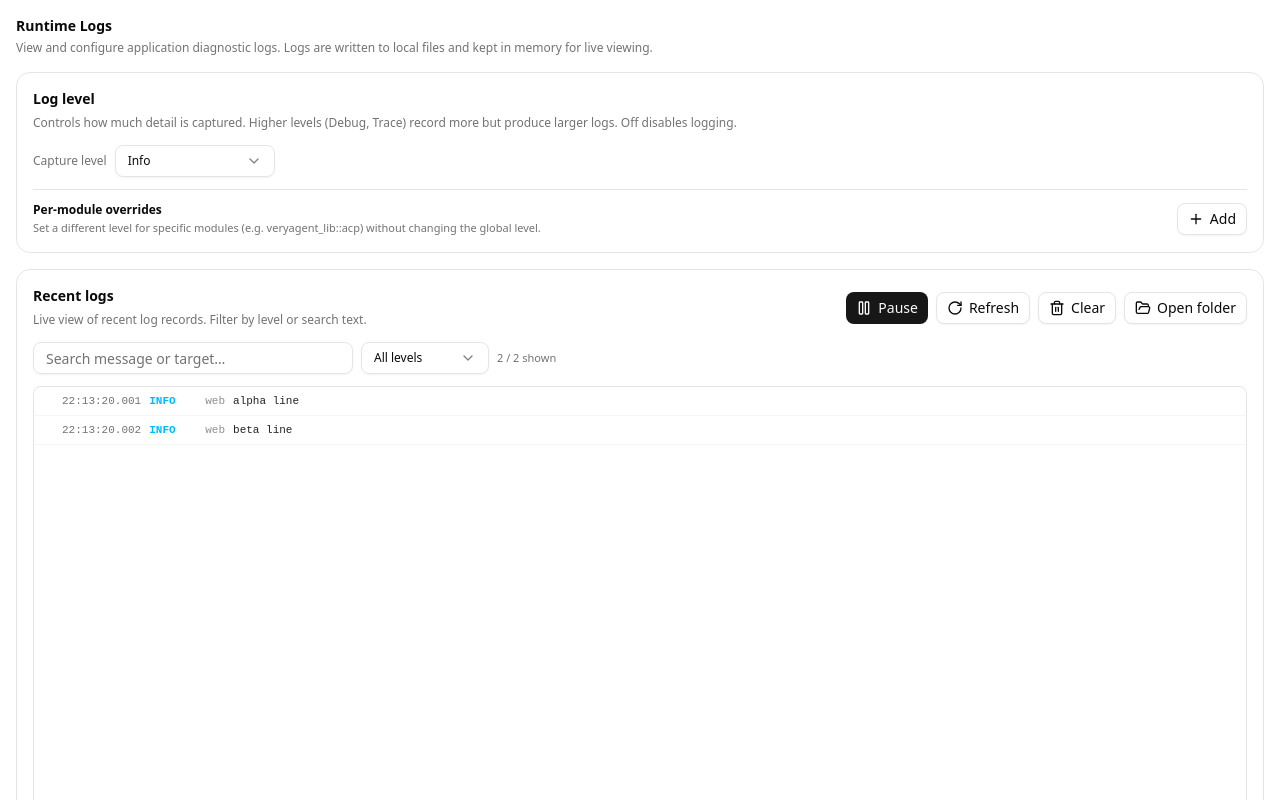
it: LogsSettings › does not re-snap to the newest after a search empties then refills the list
Expected: the text "beta line" is shown, top-left (233, 420), bottom-right (292, 440)
Type "no-such-text-zzz" into the field with placeholder "Search message or target…". click: x=193, y=358
box: top-left (33, 342), bottom-right (353, 374)
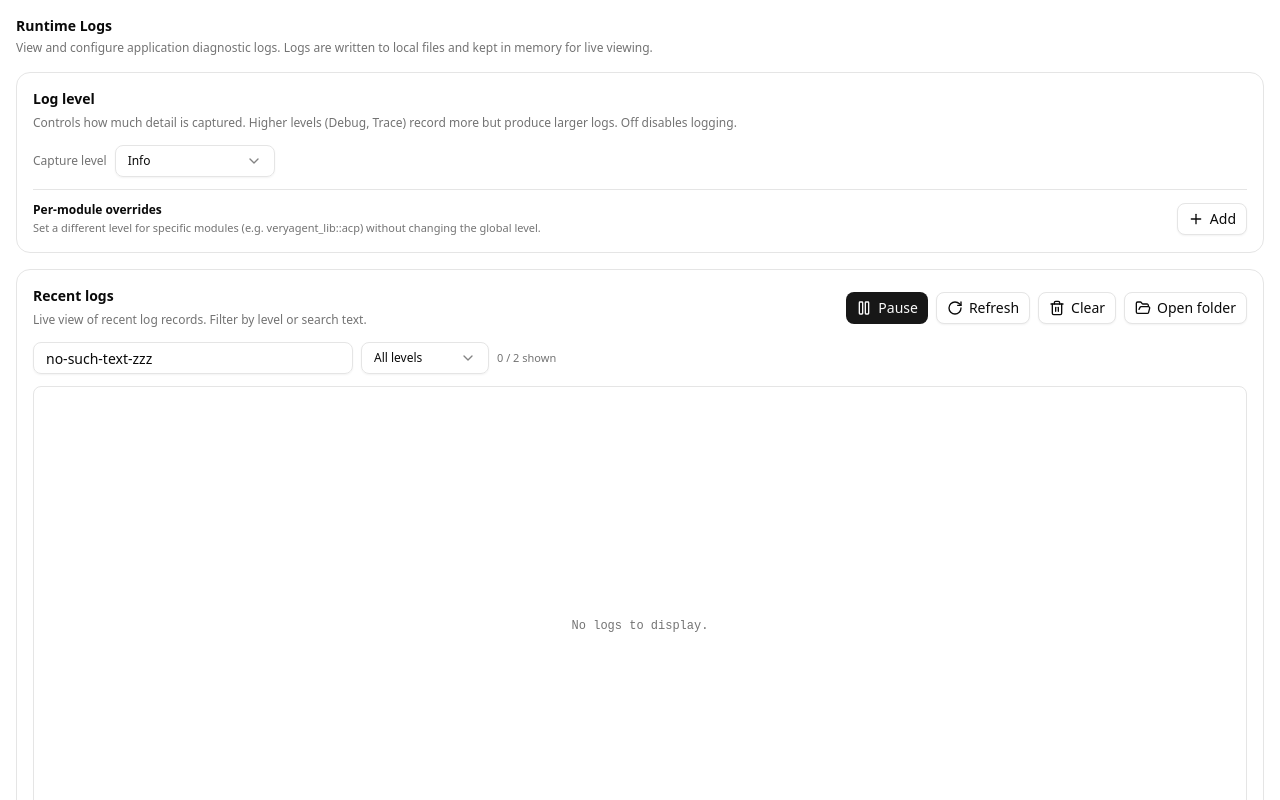
Now the text "No logs to display." is shown, box top-left (572, 619), bottom-right (708, 633)
Replace the text in the field with placeholder "Search message or target…" with "alpha". click: x=193, y=358
box: top-left (33, 342), bottom-right (353, 374)
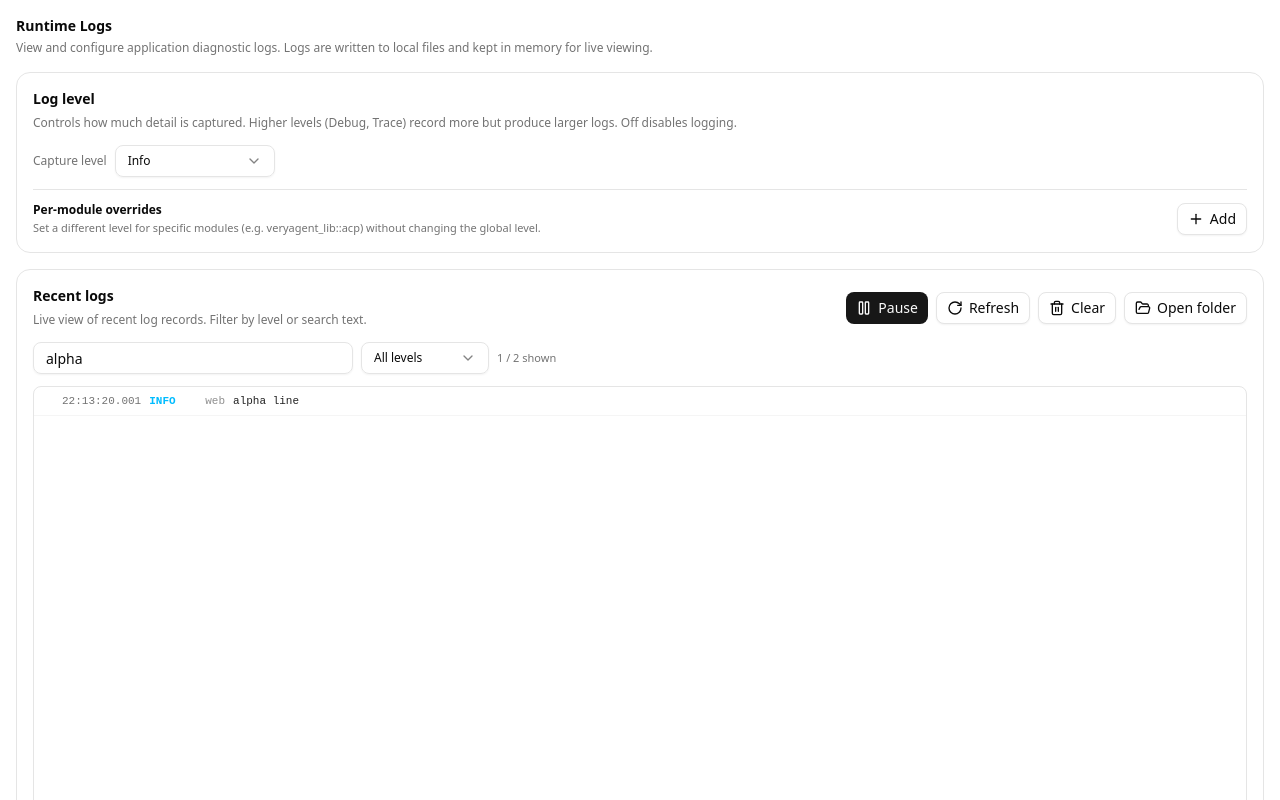
Now the text "alpha line" is shown, box top-left (233, 391), bottom-right (299, 411)
